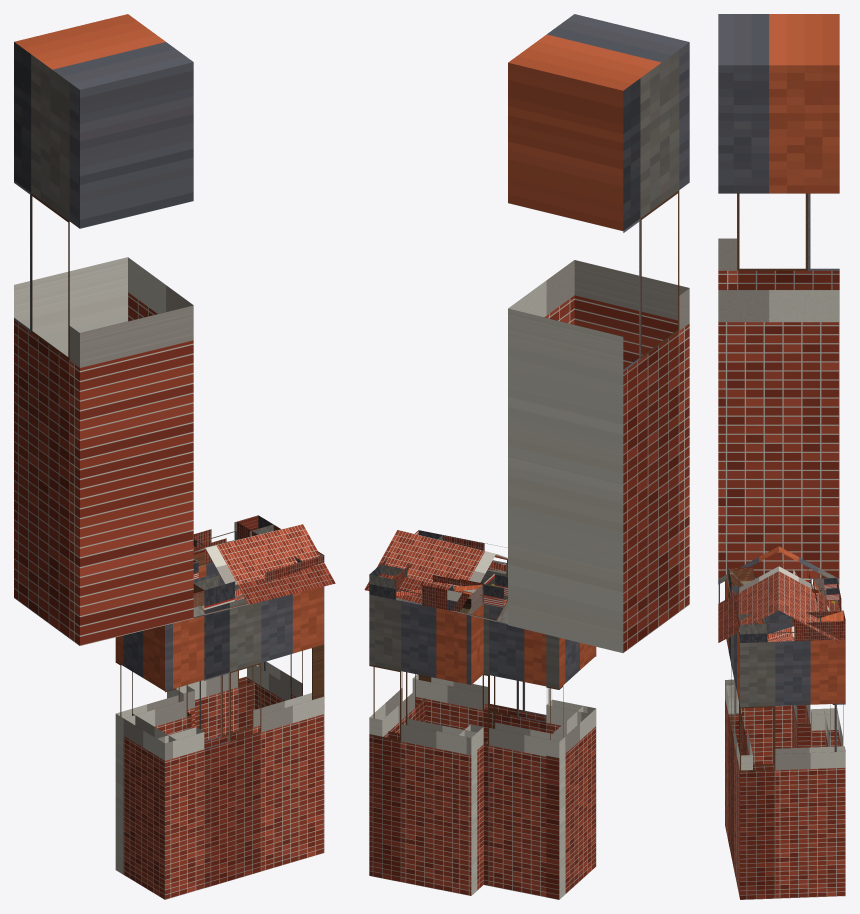
3 renders of one model, left to right at view 1: azimuth 30°, elevation 25°; view 2: azimuth 150°, elevation 25°; view 3: azimuth 270°, elevation 25°, orthographic. The views are drawn at different scales.
Parts seen in each view (by area): view 1: 594796432__chimney_0_xb, 594796432__wall_6_xb, 594796432__wall_5_xb, 594796432__wall_4_xb, 594796432_roof_-1_xb, 594796432__wall_1_xb, 594796432__wall_3_xb, 594796432__wall_0_xb, 594796432__cornice_6, 594796432__cornice_1; view 2: 594796432__chimney_0_xb, 594796432__wall_1_xb, 594796432__wall_3_xb, 594796432__wall_4_xb, 594796432_roof_1_xb, 594796432__wall_2_xb, 594796432__wall_6_xb, 594796432__cornice_1, 594796432__wall_0_xb, 594796432__wall_5_xb, 594796432__cornice_3; view 3: 594796432__chimney_0_xb, 594796432__wall_0_xb, 594796432__wall_6_xb, 594796432__wall_4_xb, 594796432_roof_-1_xb, 594796432_roof_1_xb, 594796432__cornice_0, 594796432__wall_2_xb, 594796432__wall_5_xb, 594796432__wall_3_xb, 594796432__wall_1_xb, 594796432__cornice_2 (+3 smaller).
Part boxes in pixels (<box>): 594796432__chimney_0_xb: <box>14,14,193,645</box>; 594796432__wall_6_xb: <box>199,586,324,888</box>; 594796432__wall_5_xb: <box>157,610,204,899</box>; 594796432__wall_4_xb: <box>115,625,176,899</box>; 594796432_roof_-1_xb: <box>193,524,335,617</box>; 594796432__wall_1_xb: <box>167,562,265,740</box>; 594796432__wall_3_xb: <box>115,635,191,874</box>; 594796432__wall_0_xb: <box>247,587,324,852</box>; 594796432__cornice_6: <box>193,551,324,609</box>; 594796432__cornice_1: <box>193,515,273,564</box>; 594796432__chimney_0_xb: <box>508,14,689,652</box>; 594796432__wall_1_xb: <box>369,594,477,895</box>; 594796432__wall_3_xb: <box>483,604,565,899</box>; 594796432__wall_4_xb: <box>546,634,596,899</box>; 594796432_roof_1_xb: <box>364,530,507,624</box>; 594796432__wall_2_xb: <box>458,604,483,895</box>; 594796432__wall_6_xb: <box>412,569,549,742</box>; 594796432__cornice_1: <box>369,564,482,614</box>; 594796432__wall_0_xb: <box>369,671,431,737</box>; 594796432__wall_5_xb: <box>546,699,595,733</box>; 594796432__cornice_3: <box>483,573,507,607</box>; 594796432__chimney_0_xb: <box>718,14,839,578</box>; 594796432__wall_0_xb: <box>739,639,845,899</box>; 594796432__wall_6_xb: <box>728,586,752,898</box>; 594796432__wall_4_xb: <box>726,610,805,764</box>; 594796432_roof_-1_xb: <box>718,546,778,642</box>; 594796432_roof_1_xb: <box>779,546,839,642</box>; 594796432__cornice_0: <box>738,610,845,642</box>; 594796432__wall_2_xb: <box>810,708,838,747</box>; 594796432__wall_5_xb: <box>725,580,741,842</box>; 594796432__wall_3_xb: <box>792,705,810,747</box>; 594796432__wall_1_xb: <box>824,600,845,751</box>; 594796432__cornice_2: <box>810,577,839,603</box>.
Bounding box in the file's own units: 0.3374 × 1.05 × 0.1576.
1 material, 1 textured.
